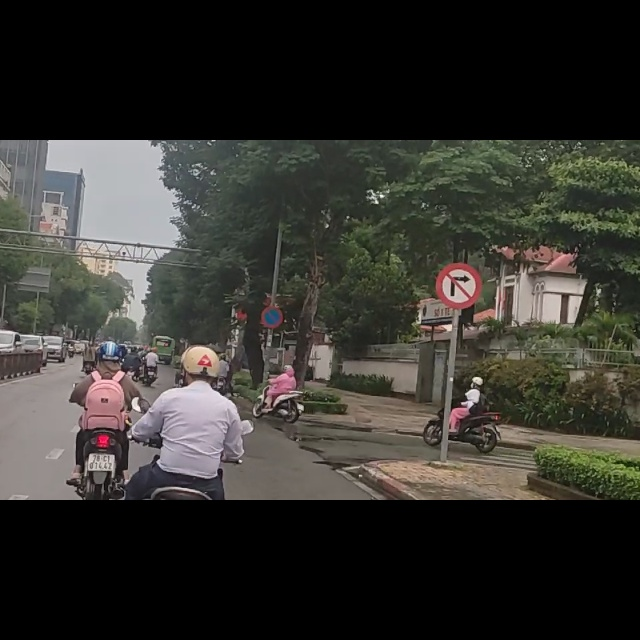bien_cam: (433, 217, 482, 299), (261, 296, 283, 334)
